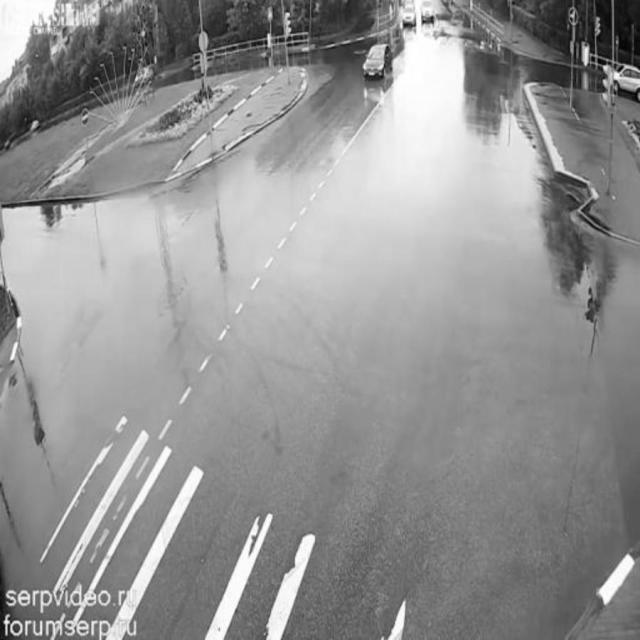vehicle: (605, 58, 640, 103), (361, 42, 398, 83), (405, 4, 413, 32)
